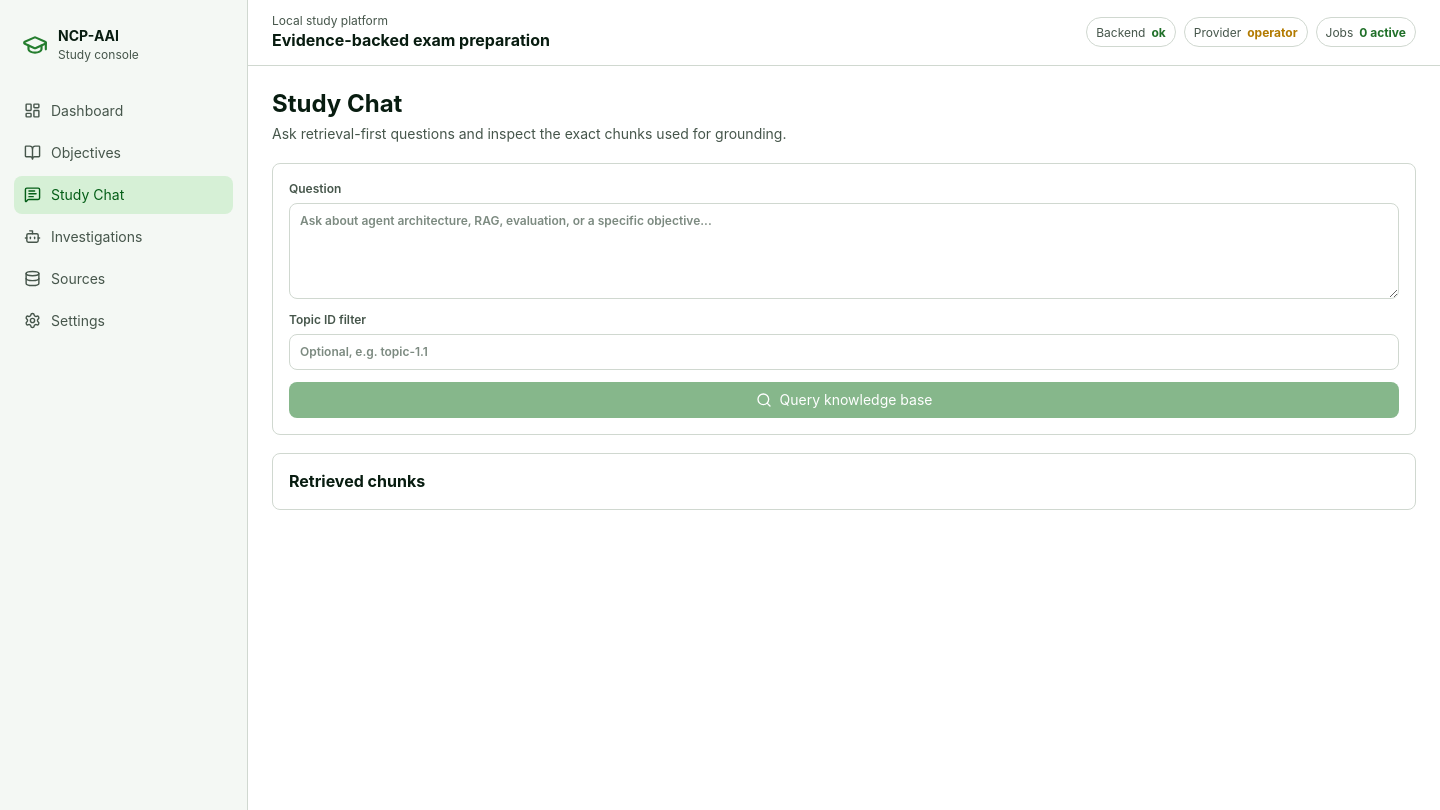
Test: NCP-AAI frontend › submits a RAG query and renders cited chunks
Type "How does RAG ground answers?" into the text box labelled "Question" at (844,251), box left=289, top=203, right=1399, bottom=299
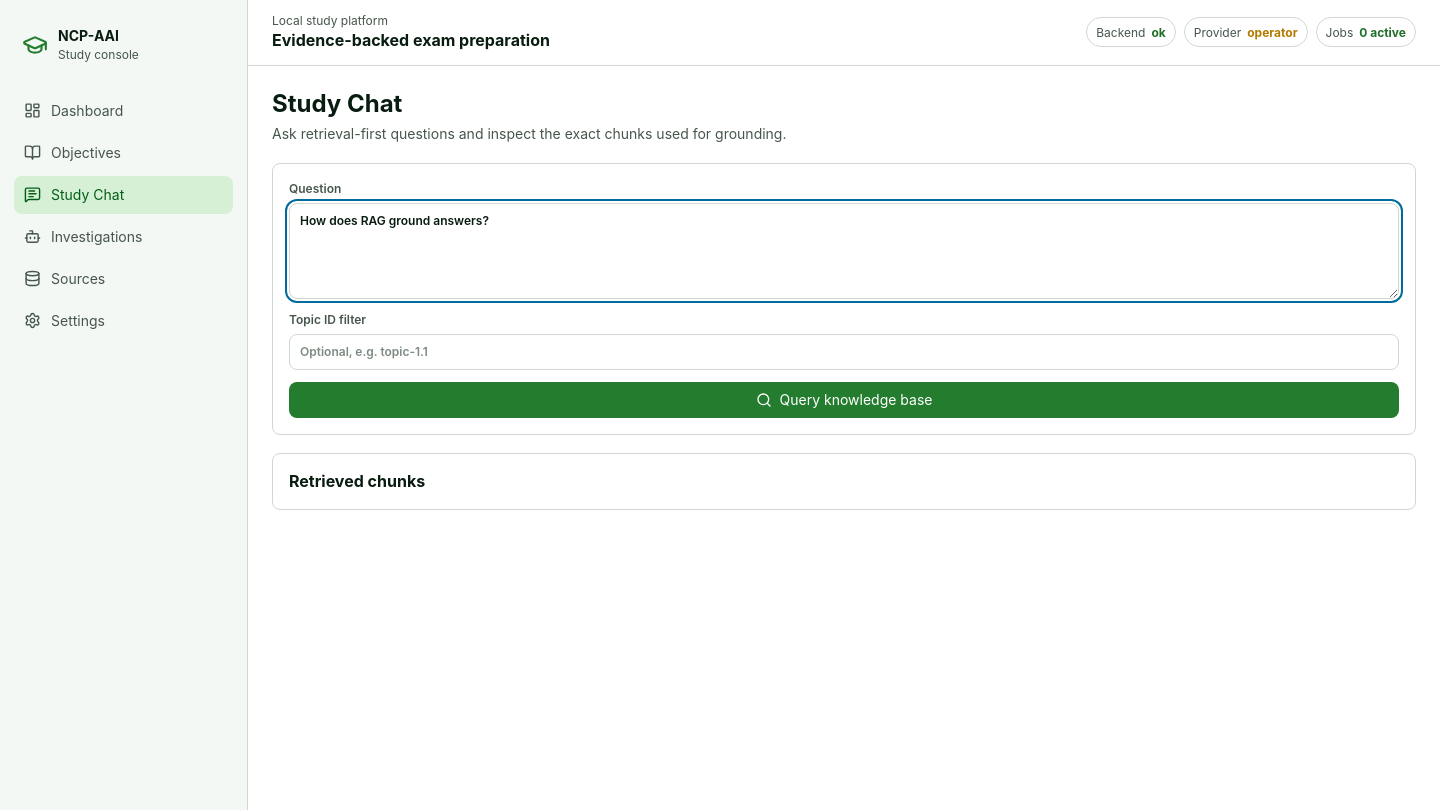
Click the button "Query knowledge base" at (844,400), box left=289, top=382, right=1399, bottom=418
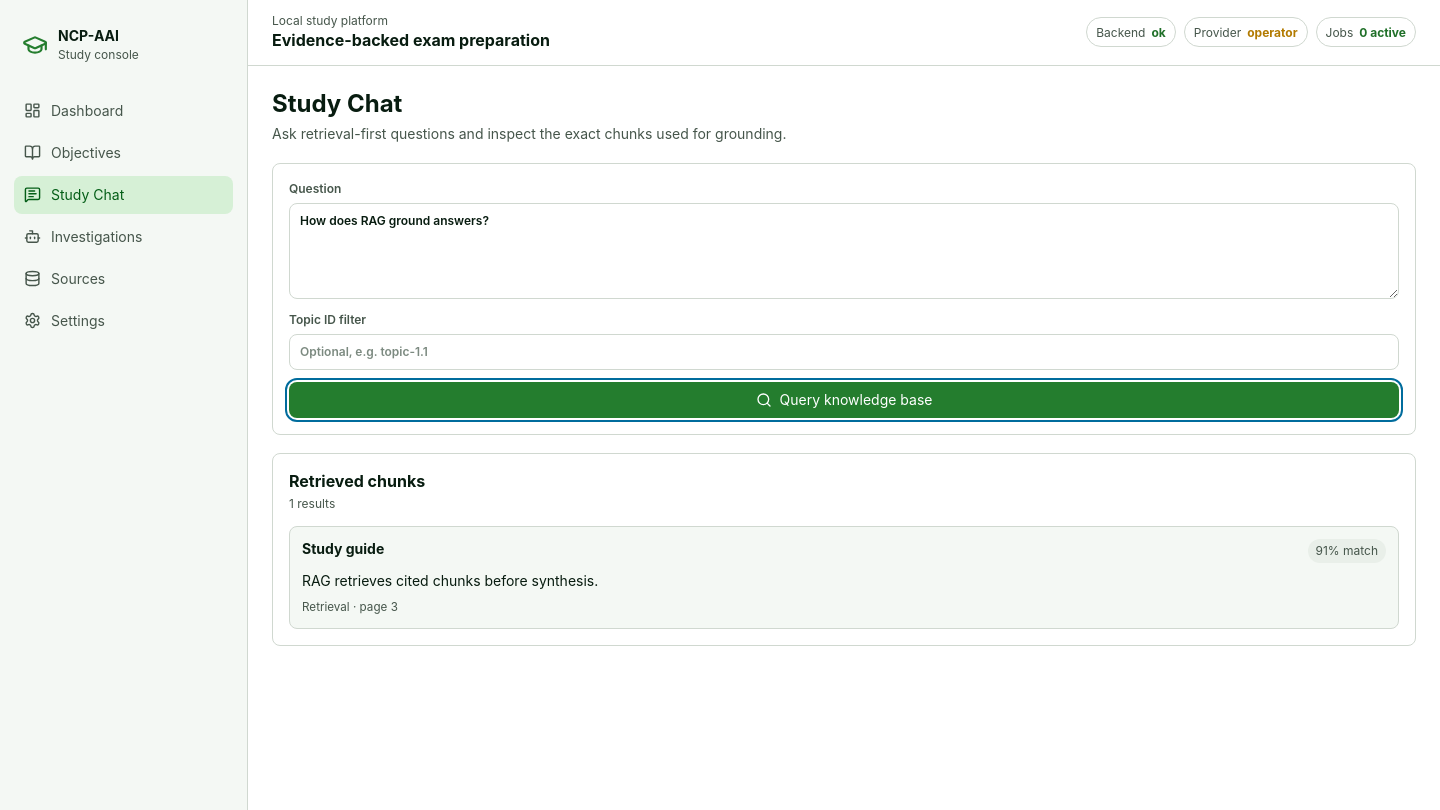
Expected: the text "Study guide" is shown, left=302, top=539, right=384, bottom=559
Expected: the text "RAG retrieves cited chunks before synthesis." is shown, left=302, top=572, right=598, bottom=589
Expected: the text "Retrieval · page 3" is shown, left=302, top=600, right=398, bottom=614
